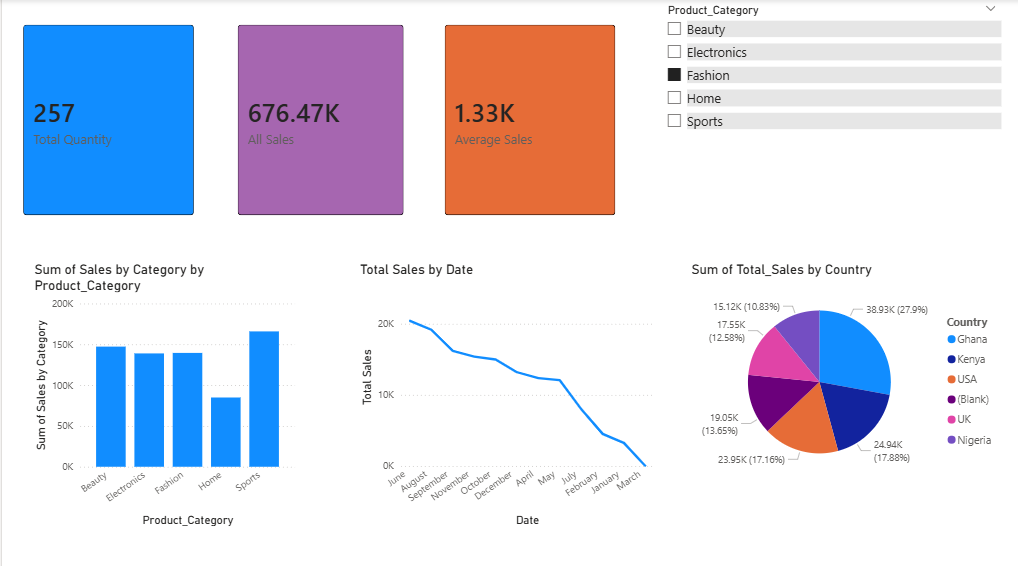

Layout of this report page (visuals, bound fields, positions):
{"tool":"powerbi","page":{"name":"Revenue Dashboard","canvas":[1280,720],"ordinal":0},"visuals":[{"type":"clusteredColumnChart","fields":{"Y":["Sum(e-commerce sales data (2).Sales by Category)"],"Category":["e-commerce sales data (2).Product_Category","e-commerce sales data.Product_Name"]},"box":[35.9,330.7,338.3,338.3],"z":0},{"type":"pieChart","fields":{"Category":["e-commerce sales data.Country"],"Y":["Sum(e-commerce sales data.Total_Sales)"]},"box":[863.6,330.7,400.6,283.5],"z":1000},{"type":"cardVisual","fields":{"Data":["e-commerce sales data.All Sales"]},"box":[279.7,15.1,243.8,274],"z":2000},{"type":"cardVisual","fields":{"Data":["e-commerce sales data.Average Sales"]},"box":[540.5,15.1,249.5,274],"z":3000},{"type":"cardVisual","fields":{"Data":["e-commerce sales data.Total Quantity"]},"box":[9.4,15.1,249.5,274],"z":4000},{"type":"lineChart","fields":{"Category":["e-commerce sales data.Date"],"Y":["e-commerce sales data.Total Sales"]},"box":[446,330.7,379.8,338.3],"z":6000},{"type":"slicer","fields":{"Values":["e-commerce sales data.Product_Category"]},"box":[825.8,0,438.4,289.1],"z":7000}]}

Visuals, with their boxes in screenshot pixels (x1, y1, x2, y2), scaled from the page's 1280x720 canvas onto the 1018x566 screenshot:
clusteredColumnChart - Sum(e-commerce sales data (2).Sales by Category) x e-commerce sales data (2).Product_Category: <bbox>29, 260, 298, 526</bbox>
pieChart - e-commerce sales data.Country x Sum(e-commerce sales data.Total_Sales): <bbox>687, 260, 1005, 483</bbox>
cardVisual - e-commerce sales data.All Sales: <bbox>222, 12, 416, 227</bbox>
cardVisual - e-commerce sales data.Average Sales: <bbox>430, 12, 628, 227</bbox>
cardVisual - e-commerce sales data.Total Quantity: <bbox>7, 12, 206, 227</bbox>
lineChart - e-commerce sales data.Date x e-commerce sales data.Total Sales: <bbox>355, 260, 657, 526</bbox>
slicer - e-commerce sales data.Product_Category: <bbox>657, 0, 1005, 227</bbox>
